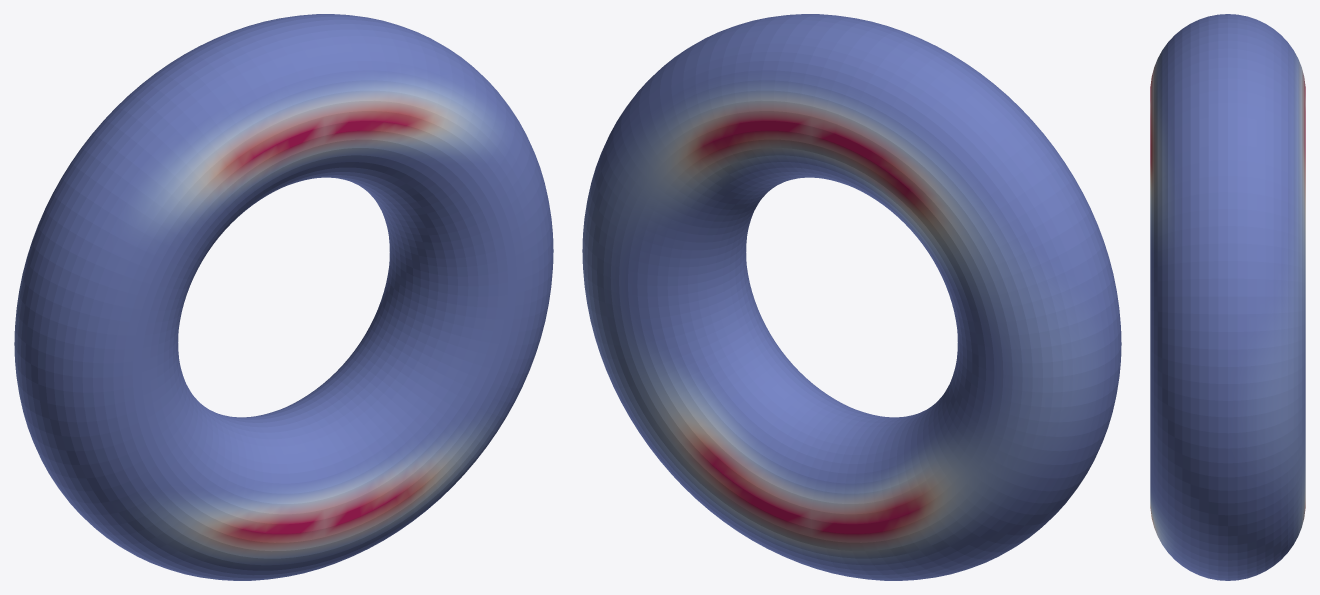
The picture shows the model from 3 angles, left to right: view 1: azimuth 30°, elevation 25°; view 2: azimuth 150°, elevation 25°; view 3: azimuth 270°, elevation 25°; orthographic projection. The views are drawn at different scales.
Visible parts, largest first — view 1: world; view 2: world; view 3: world.
Part boxes in pixels (x1,y1,x2,y2): world: [14, 14, 553, 580]; world: [582, 14, 1121, 580]; world: [1150, 14, 1305, 580].
Bounding box in the file's own units: 13.78 × 13.78 × 3.77.
